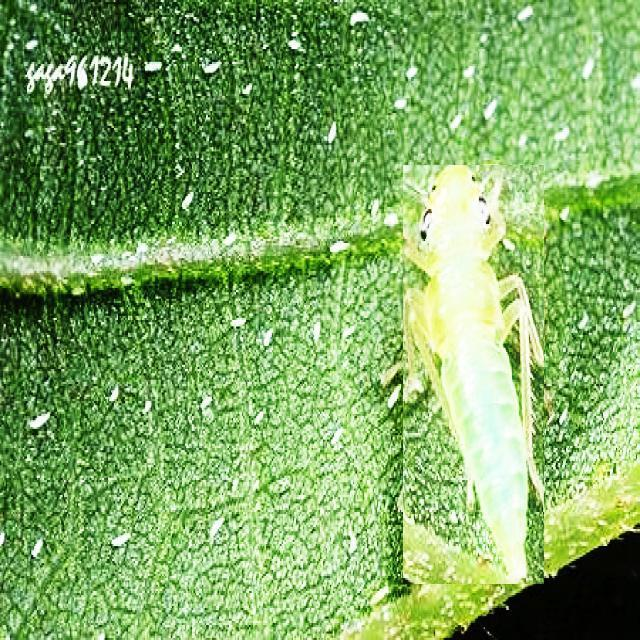green-leafhopper: (403, 165, 544, 584)
